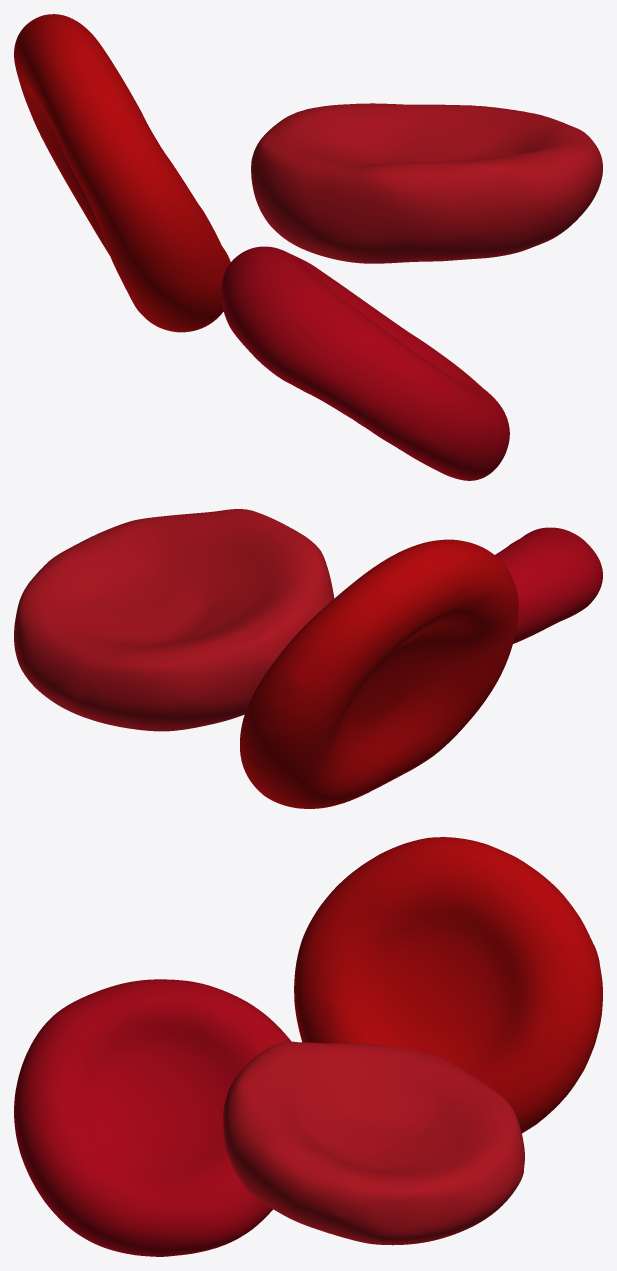
File: globulos_rojos.glb
The picture shows the model from 3 angles, top to bottom: view 1: azimuth 30°, elevation 25°; view 2: azimuth 150°, elevation 25°; view 3: azimuth 270°, elevation 25°; orthographic projection. The views are drawn at different scales.
Visible parts, largest first — view 1: discocyte1_0, discocyte2_1, discocyte3_2; view 2: discocyte1_0, discocyte2_1, discocyte3_2; view 3: discocyte2_1, discocyte3_2, discocyte1_0.
Part boxes in pixels (<box>): discocyte1_0: <box>251,103,602,263</box>; discocyte2_1: <box>14,14,230,332</box>; discocyte3_2: <box>221,246,509,480</box>; discocyte1_0: <box>14,509,334,731</box>; discocyte2_1: <box>240,539,518,808</box>; discocyte3_2: <box>495,527,602,643</box>; discocyte2_1: <box>294,837,602,1133</box>; discocyte3_2: <box>14,979,291,1256</box>; discocyte1_0: <box>223,1041,524,1245</box>.
Size of the model in its own units: 1.32 by 0.8803 by 1.49.
